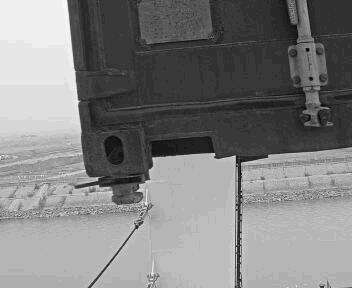twist_lock_1: (88, 168, 157, 212)
